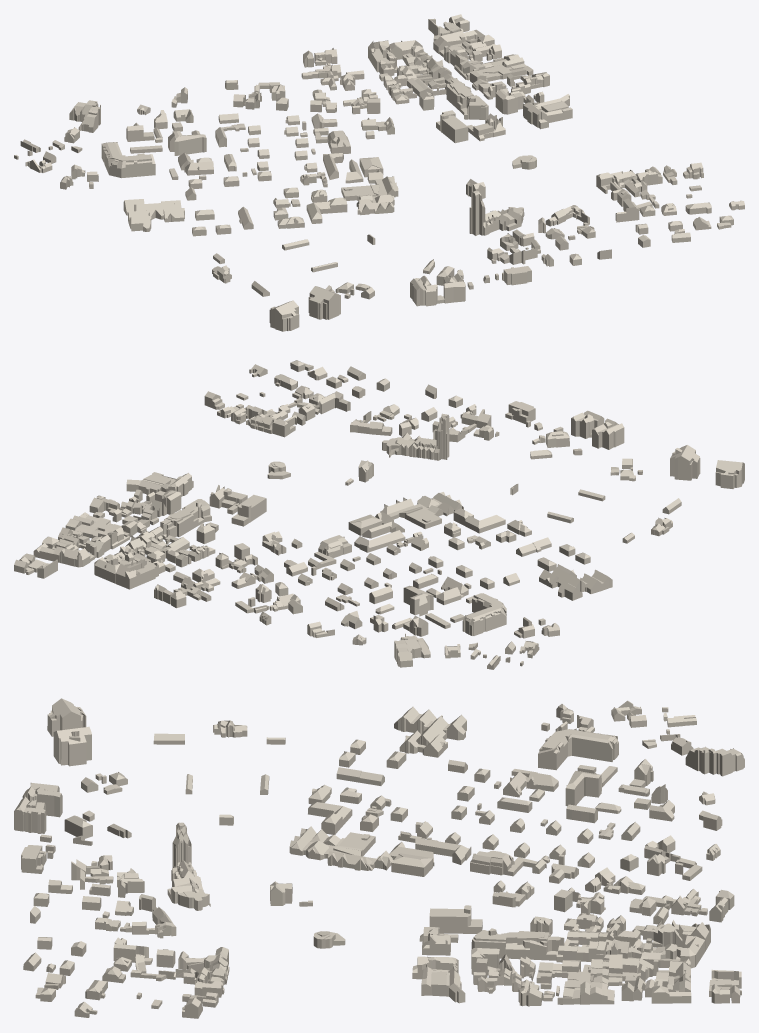
The picture shows the model from 3 angles, top to bottom: view 1: azimuth 30°, elevation 25°; view 2: azimuth 150°, elevation 25°; view 3: azimuth 270°, elevation 25°; orthographic projection. The views are drawn at different scales.
Bounding box in the file's own units: 457 × 39.16 × 458.
